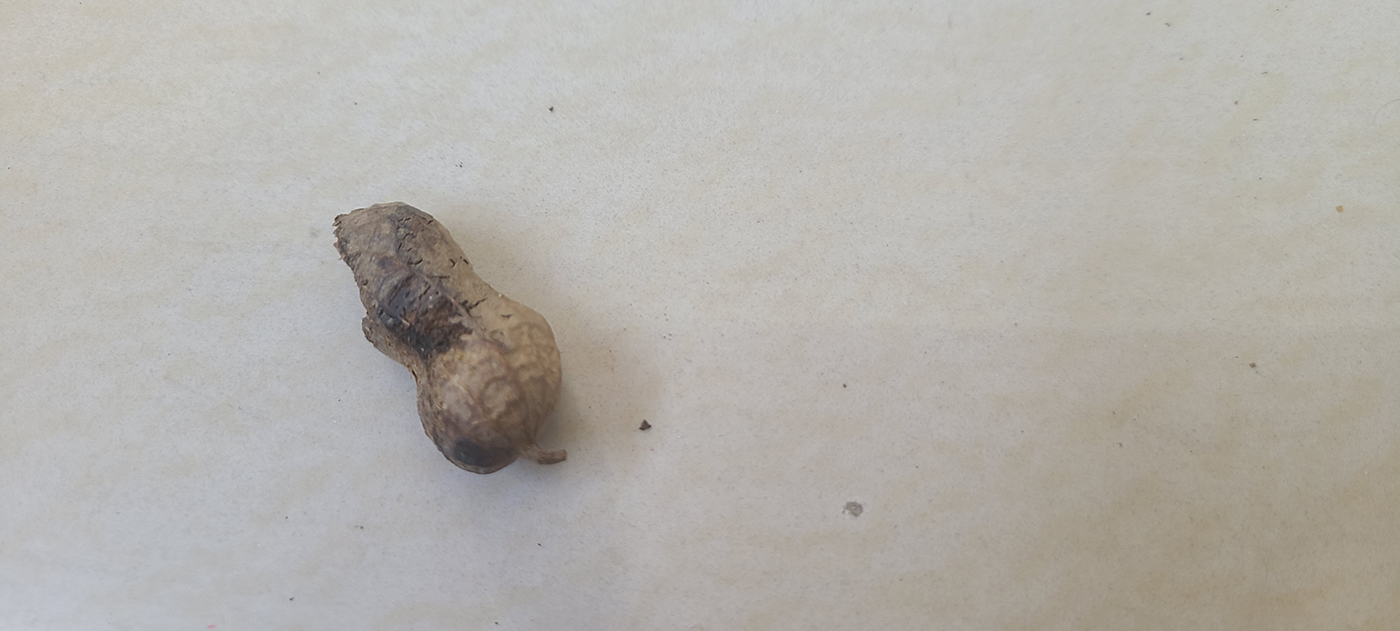l: (336, 200, 564, 475)
